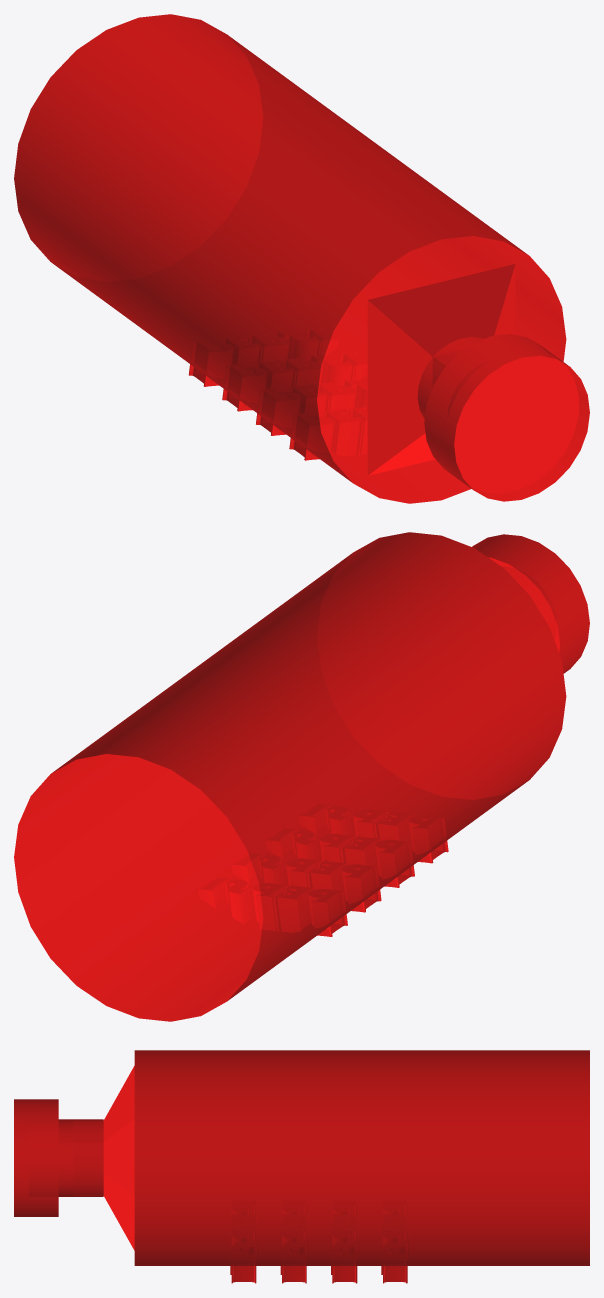
The model's file is model_align.obj.
3 renders of one model, top to bottom at view 1: azimuth 30°, elevation 25°; view 2: azimuth 150°, elevation 25°; view 3: azimuth 270°, elevation 25°, orthographic. The views are drawn at different scales.
Visible parts, largest first — view 1: mesh49_mesh49-geometry, mesh1_mesh1-geometry, mesh11_mesh11-geometry, mesh16_mesh16-geometry, mesh6_mesh6-geometry, mesh2_mesh2-geometry, mesh14_mesh14-geometry, mesh19_mesh19-geometry, mesh17_mesh17-geometry, mesh12_mesh12-geometry, mesh7_mesh7-geometry, mesh8_mesh8-geometry (+2 smaller); view 2: mesh49_mesh49-geometry, mesh17_mesh17-geometry, mesh16_mesh16-geometry, mesh6_mesh6-geometry, mesh11_mesh11-geometry, mesh1_mesh1-geometry, mesh18_mesh18-geometry, mesh12_mesh12-geometry, mesh2_mesh2-geometry, mesh7_mesh7-geometry, mesh19_mesh19-geometry, mesh8_mesh8-geometry (+2 smaller); view 3: mesh49_mesh49-geometry, mesh15_mesh15-geometry, mesh5_mesh5-geometry, mesh10_mesh10-geometry, mesh20_mesh20-geometry, mesh8_mesh8-geometry, mesh3_mesh3-geometry, mesh13_mesh13-geometry, mesh18_mesh18-geometry, mesh14_mesh14-geometry, mesh19_mesh19-geometry, mesh9_mesh9-geometry (+2 smaller).
Boxes of the visible parts, bbox=[...] form: mesh49_mesh49-geometry: bbox=[14, 14, 589, 503]; mesh1_mesh1-geometry: bbox=[289, 413, 333, 460]; mesh11_mesh11-geometry: bbox=[222, 364, 266, 411]; mesh16_mesh16-geometry: bbox=[188, 340, 233, 386]; mesh6_mesh6-geometry: bbox=[256, 389, 300, 435]; mesh2_mesh2-geometry: bbox=[323, 409, 362, 455]; mesh14_mesh14-geometry: bbox=[311, 356, 354, 385]; mesh19_mesh19-geometry: bbox=[278, 331, 320, 360]; mesh17_mesh17-geometry: bbox=[222, 335, 262, 366]; mesh12_mesh12-geometry: bbox=[256, 360, 295, 391]; mesh7_mesh7-geometry: bbox=[289, 384, 329, 415]; mesh8_mesh8-geometry: bbox=[316, 383, 355, 410]; mesh49_mesh49-geometry: bbox=[14, 532, 589, 1021]; mesh17_mesh17-geometry: bbox=[274, 885, 313, 931]; mesh16_mesh16-geometry: bbox=[309, 889, 347, 936]; mesh6_mesh6-geometry: bbox=[376, 840, 414, 887]; mesh11_mesh11-geometry: bbox=[342, 865, 381, 912]; mesh1_mesh1-geometry: bbox=[409, 816, 448, 863]; mesh18_mesh18-geometry: bbox=[253, 883, 287, 930]; mesh12_mesh12-geometry: bbox=[308, 860, 346, 890]; mesh2_mesh2-geometry: bbox=[375, 811, 413, 841]; mesh7_mesh7-geometry: bbox=[341, 836, 380, 866]; mesh19_mesh19-geometry: bbox=[225, 879, 250, 923]; mesh8_mesh8-geometry: bbox=[320, 834, 354, 861]; mesh49_mesh49-geometry: bbox=[14, 1050, 589, 1265]; mesh15_mesh15-geometry: bbox=[332, 1253, 357, 1283]; mesh5_mesh5-geometry: bbox=[231, 1253, 256, 1283]; mesh10_mesh10-geometry: bbox=[282, 1253, 306, 1283]; mesh20_mesh20-geometry: bbox=[383, 1253, 407, 1283]; mesh8_mesh8-geometry: bbox=[282, 1226, 306, 1245]; mesh3_mesh3-geometry: bbox=[232, 1226, 255, 1244]; mesh13_mesh13-geometry: bbox=[333, 1226, 356, 1244]; mesh18_mesh18-geometry: bbox=[383, 1226, 406, 1245]; mesh14_mesh14-geometry: bbox=[331, 1240, 358, 1274]; mesh19_mesh19-geometry: bbox=[381, 1240, 408, 1274]; mesh9_mesh9-geometry: bbox=[280, 1240, 307, 1274].
Bounding box in the file's own units: 0.0474 × 0.0489 × 0.1262.
